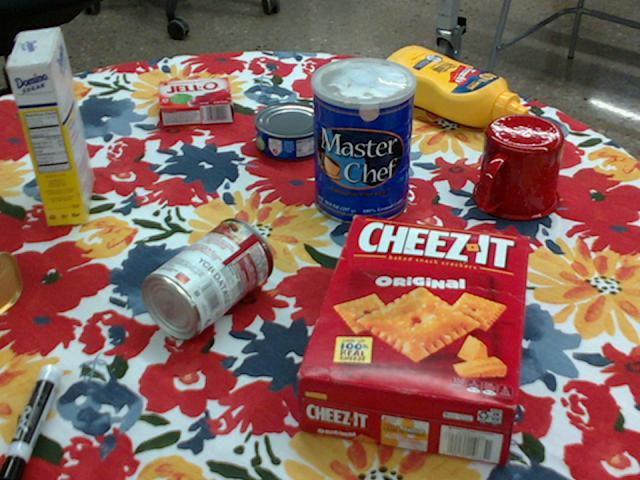cracker_box: (294, 218, 529, 465)
gelatin_box: (156, 80, 231, 128)
large_marker: (0, 363, 62, 479)
master_chef_can: (312, 58, 417, 226)
mug: (471, 115, 564, 222)
mustard_bottle: (377, 45, 527, 127)
potted_meat_can: (0, 251, 21, 312)
sugar_box: (7, 26, 93, 226)
tomato_soup_can: (140, 218, 272, 340)
tuna_fish_can: (253, 102, 327, 161)
